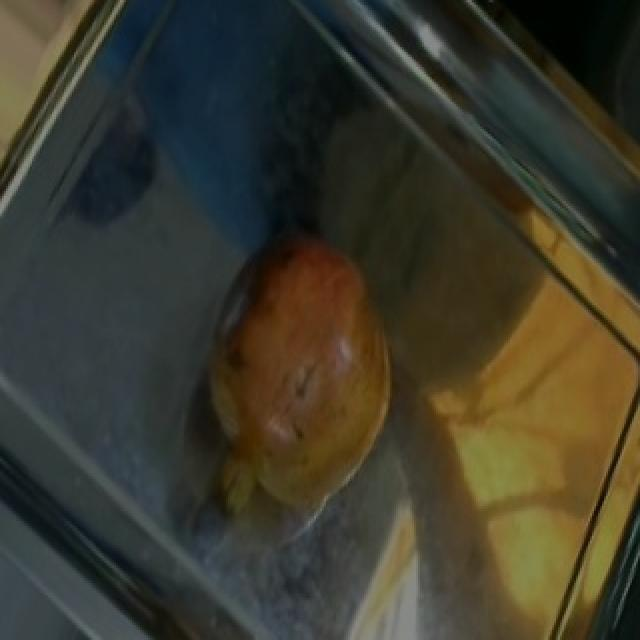fruit: (170, 198, 430, 506)
